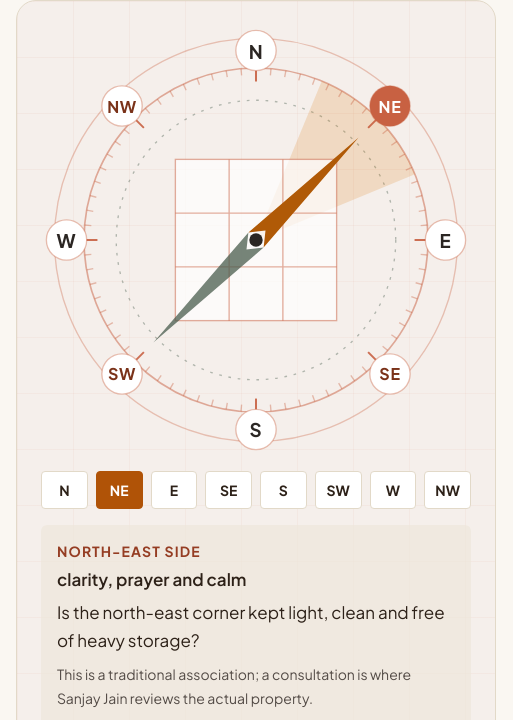
Test: VastuDial › selects and displays the South direction from its button
Click the button "S": (283, 490) [260, 471, 307, 509]
(page scrolled)
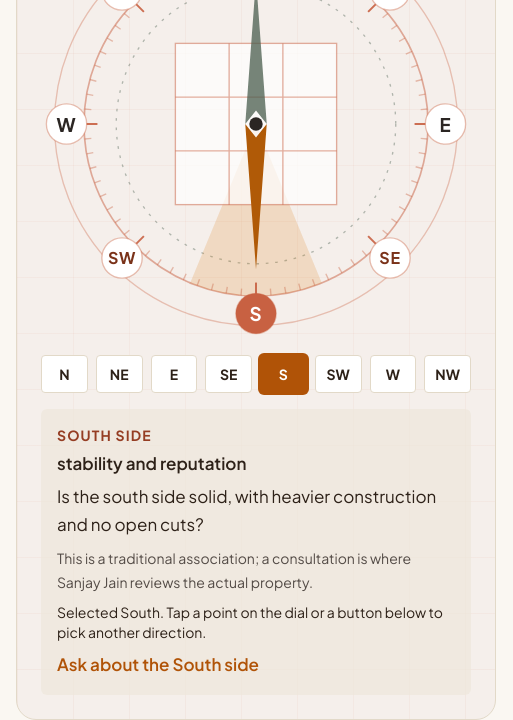
Check: the text "South side" is shown, box [57, 426, 152, 444]
